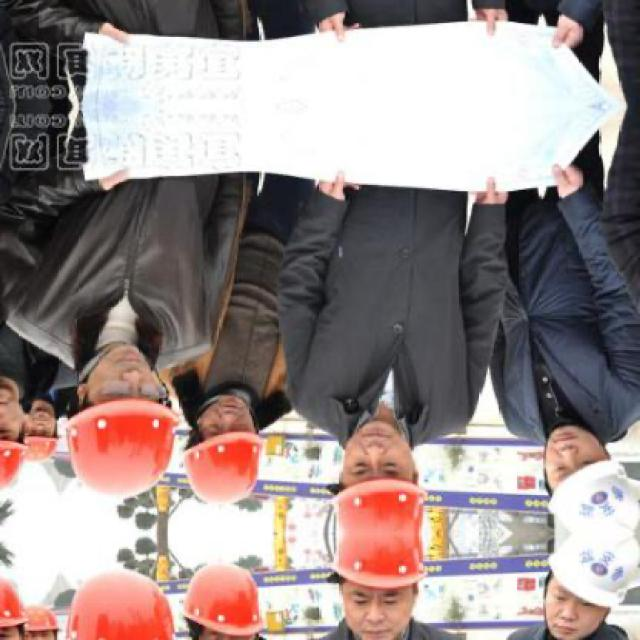con casco: (52, 320, 206, 483), (482, 412, 630, 526), (304, 414, 416, 524), (156, 408, 262, 506), (0, 288, 26, 472)
